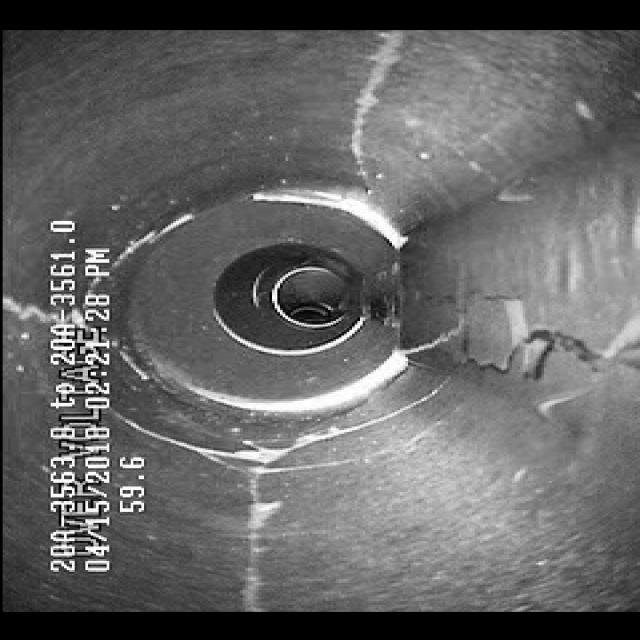Fracture: (380, 297, 628, 412)
